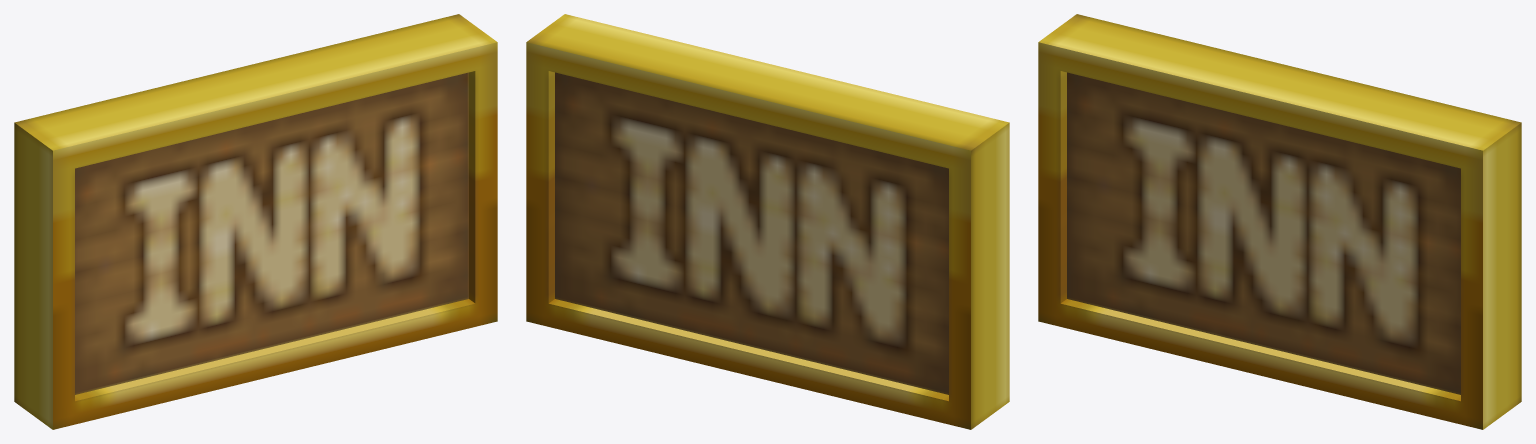
The model's file is Poly_Board_Sign_06.obj.
3 renders of one model, left to right at view 1: azimuth 30°, elevation 25°; view 2: azimuth 150°, elevation 25°; view 3: azimuth 330°, elevation 25°, orthographic.
Visible parts, largest first — view 1: Cube; view 2: Cube; view 3: Cube.
Boxes of the visible parts, x1,y1,x2,y2 form: Cube: (14,14,497,429); Cube: (526,14,1009,429); Cube: (1038,14,1521,429).
Bounding box in the file's own units: 1 × 0.6 × 0.15.
1 material, 1 textured.
